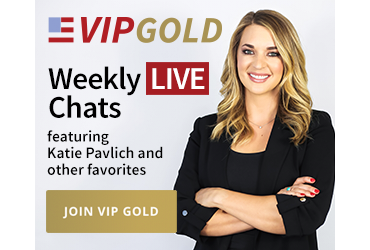fake_button: (39, 187, 180, 237), (143, 55, 213, 103)
